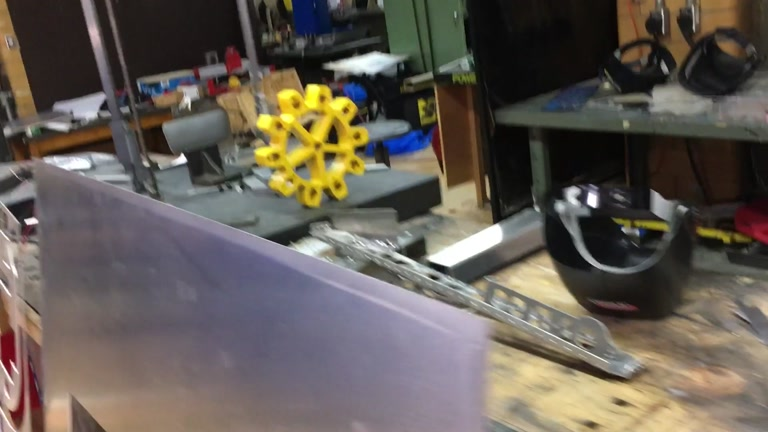gear: (255, 85, 370, 208)
